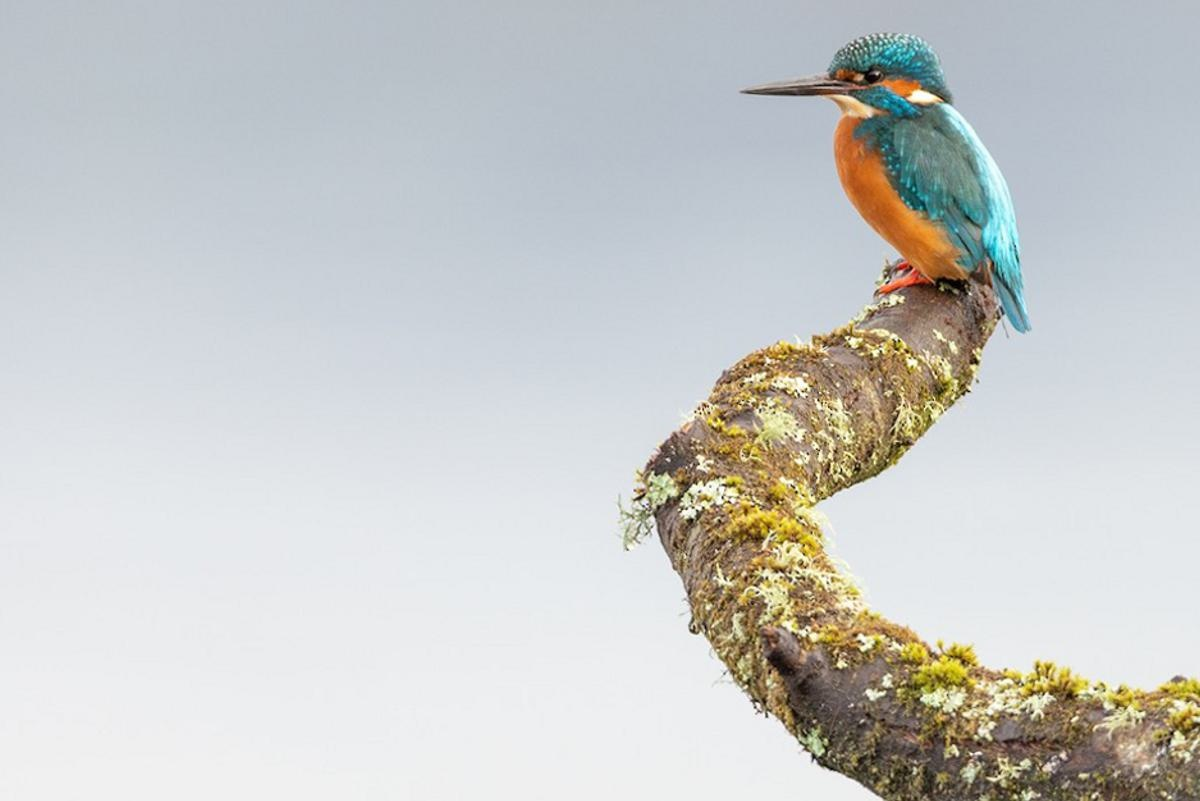kingfisher: (747, 24, 1068, 332)
